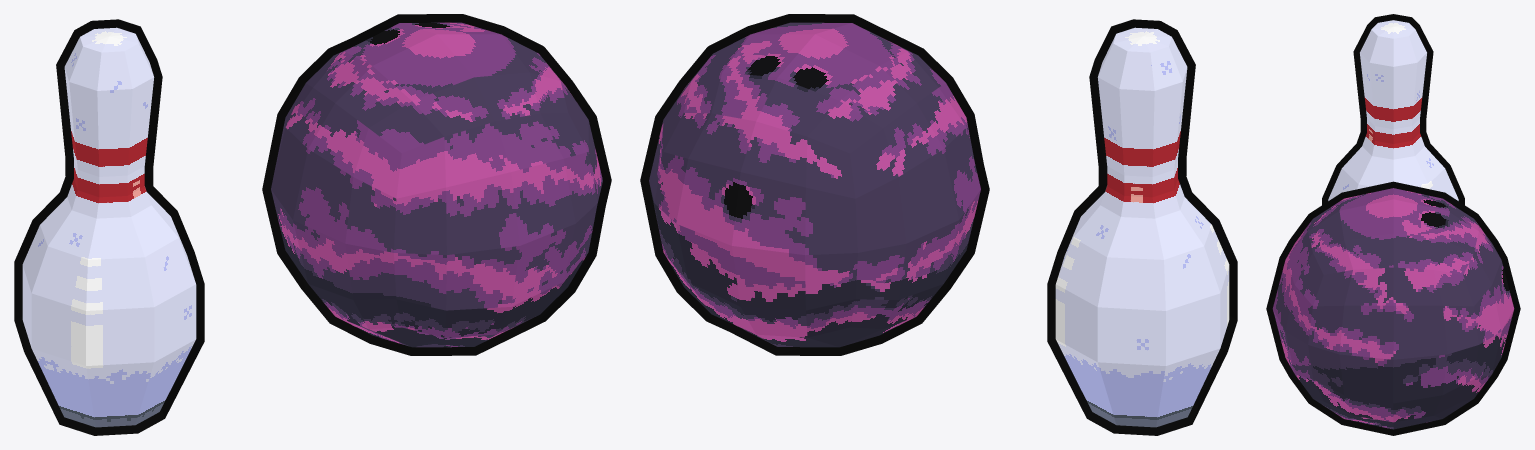
The model's file is bowling_ball_and_bowling_pin.glb.
The picture shows the model from 3 angles, left to right: view 1: azimuth 30°, elevation 25°; view 2: azimuth 150°, elevation 25°; view 3: azimuth 270°, elevation 25°; orthographic projection. The views are drawn at different scales.
Visible parts, largest first — view 1: Cube, Cube.001; view 2: Cube, Cube.001; view 3: Cube, Cube.001.
Part boxes in pixels (x1,y1,x2,y2): Cube: (262, 14, 611, 355); Cube.001: (14, 19, 204, 435); Cube: (640, 14, 989, 355); Cube.001: (1047, 19, 1237, 435); Cube: (1266, 181, 1520, 435); Cube.001: (1322, 14, 1464, 204).
Size of the model in its own units: 5.16 by 3.45 by 2.77.
2 materials, 1 textured.
